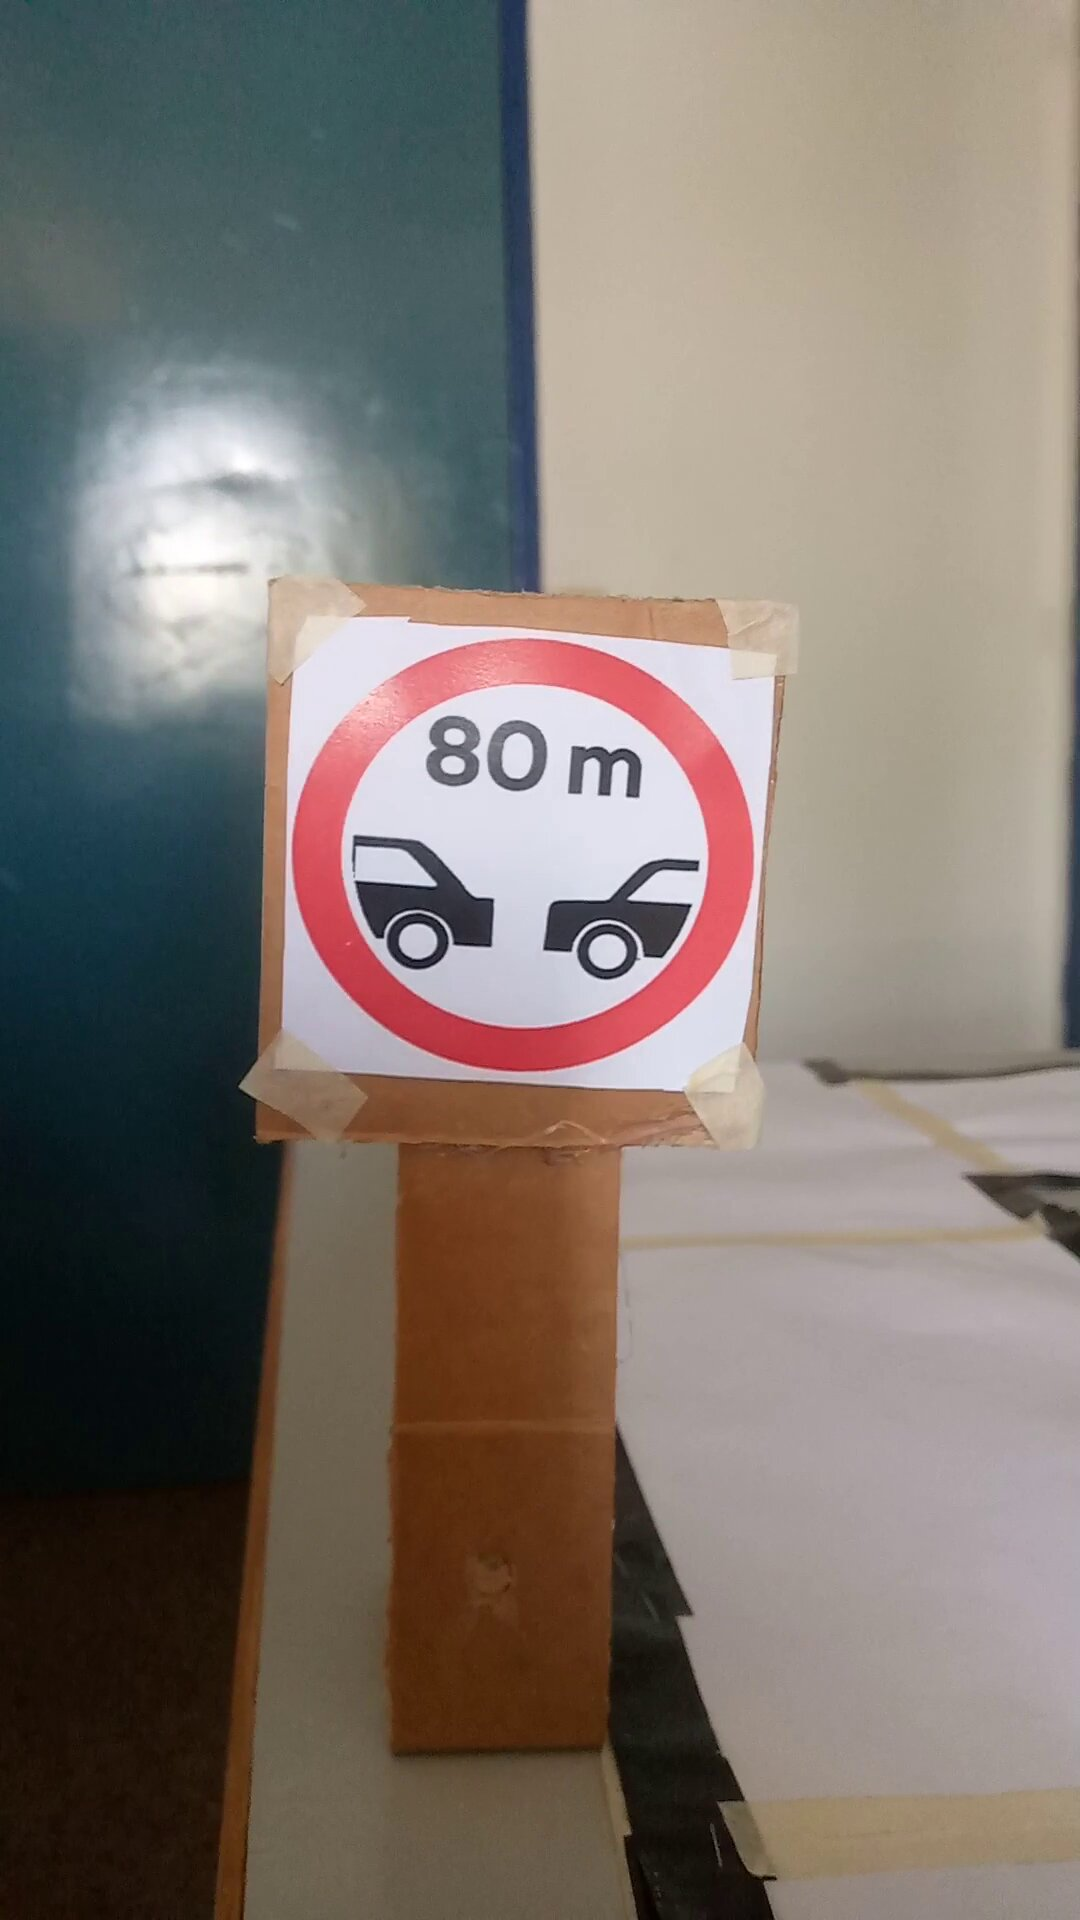panel001: (270, 580, 787, 1163)
